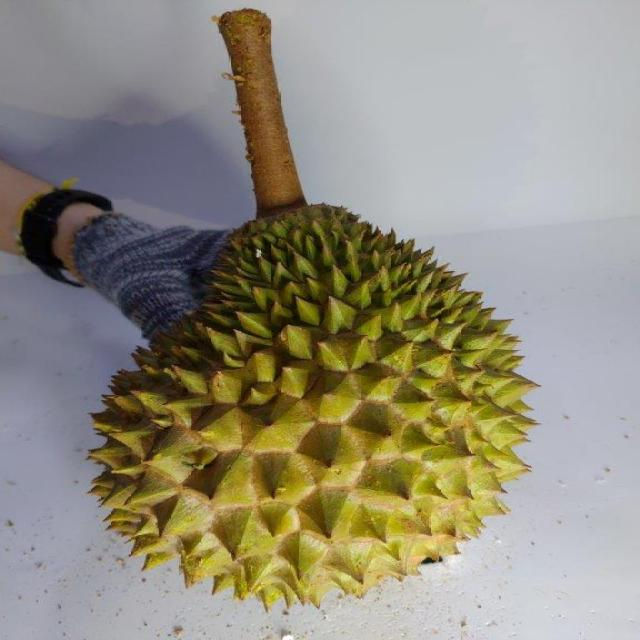mature: (83, 201, 544, 610)
